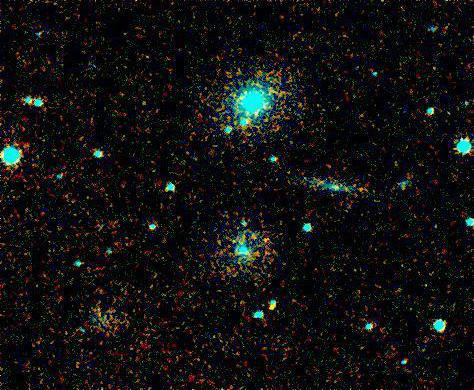star: (258, 294, 288, 324)
